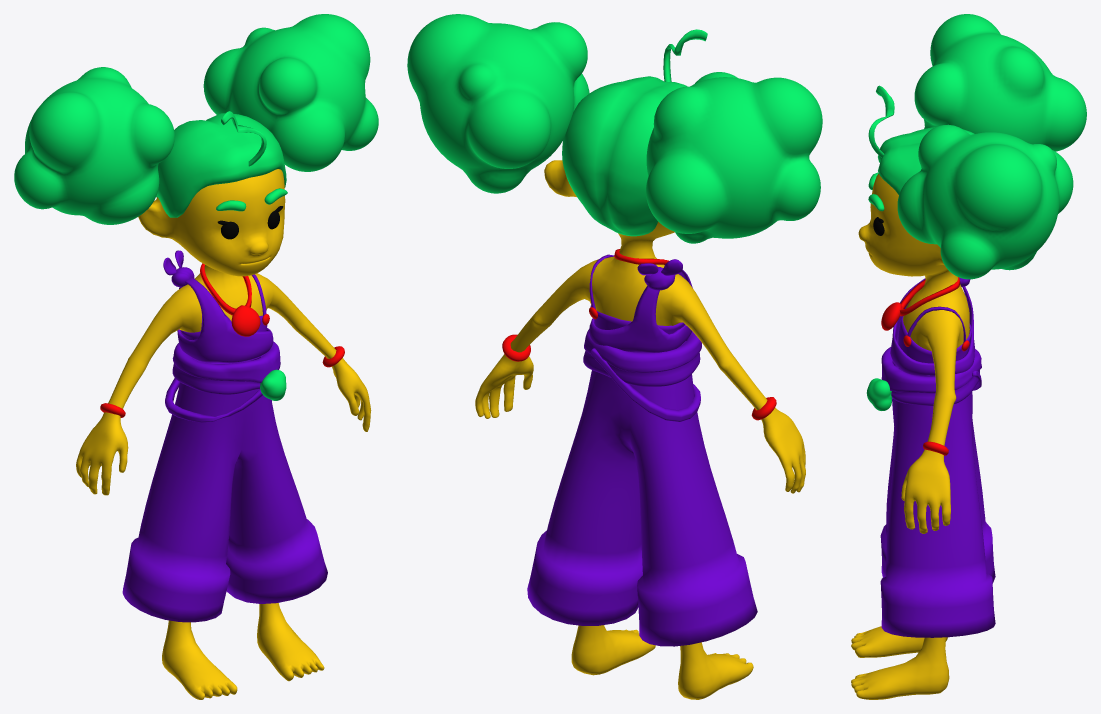
The model's file is M_Urle.fbx.
3 renders of one model, left to right at view 1: azimuth 30°, elevation 25°; view 2: azimuth 150°, elevation 25°; view 3: azimuth 270°, elevation 25°, orthographic. The views are drawn at different scales.
Parts seen in each view (by area): view 1: Urle_Pants, Urle_Body, Urle_Hair_High_L, Urle_Hair_High_R, Urle_Scalp, Urle_Top_Loose_, Urle_Belt, Urle_Hand_R, Urle_Hand_L, Urle_Belt_Low, Urle_Jewlery, Urle_CloudAccessory; view 2: Urle_Pants, Urle_Hair_High_R, Urle_Hair_High_L, Urle_Body, Urle_Scalp, Urle_Belt, Urle_Top_Loose_, Urle_Hand_R, Urle_Hand_L, Urle_Belt_Low, Urle_StrandOfHair; view 3: Urle_Pants, Urle_Hair_High_L, Urle_Hair_High_R, Urle_Body, Urle_Hand_L, Urle_Belt, Urle_Scalp, Urle_Top_Loose_, Urle_Top, Urle_CloudAccessory, Urle_Necklace, Urle_StrandOfHair (+1 smaller).
Boxes of the visible parts, box(x1,y1,x2,y2) form: Urle_Pants: box(122, 354, 327, 622); Urle_Body: box(108, 169, 336, 699); Urle_Hair_High_L: box(203, 14, 378, 171); Urle_Hair_High_R: box(14, 67, 174, 224); Urle_Scalp: box(156, 113, 286, 217); Urle_Top_Loose_: box(177, 278, 273, 363); Urle_Belt: box(172, 341, 280, 394); Urle_Hand_R: box(76, 412, 128, 495); Urle_Hand_L: box(332, 358, 371, 431); Urle_Belt_Low: box(165, 378, 262, 422); Urle_Jewlery: box(231, 305, 260, 336); Urle_CloudAccessory: box(260, 369, 286, 400); Urle_Pants: box(527, 341, 757, 646); Urle_Hair_High_R: box(646, 72, 822, 243); Urle_Hair_High_L: box(407, 14, 589, 193); Urle_Body: box(510, 160, 767, 699); Urle_Scalp: box(562, 76, 687, 236); Urle_Belt: box(583, 329, 701, 386); Urle_Top_Loose_: box(589, 269, 692, 352); Urle_Hand_R: box(761, 407, 805, 493); Urle_Hand_L: box(475, 341, 533, 418); Urle_Belt_Low: box(590, 348, 700, 421); Urle_StrandOfHair: box(663, 29, 707, 81); Urle_Pants: box(880, 364, 995, 637); Urle_Hair_High_L: box(897, 124, 1073, 279); Urle_Hair_High_R: box(914, 14, 1086, 151); Urle_Body: box(851, 173, 969, 699); Urle_Hand_L: box(901, 449, 950, 533); Urle_Belt: box(881, 347, 981, 405); Urle_Scalp: box(878, 127, 974, 194); Urle_Top_Loose_: box(890, 278, 974, 375); Urle_Top: box(898, 316, 971, 363); Urle_CloudAccessory: box(866, 378, 892, 410); Urle_Necklace: box(900, 277, 960, 316); Urle_StrandOfHair: box(868, 85, 894, 157).
Size of the model in its own units: 157 by 250 by 90.86.
